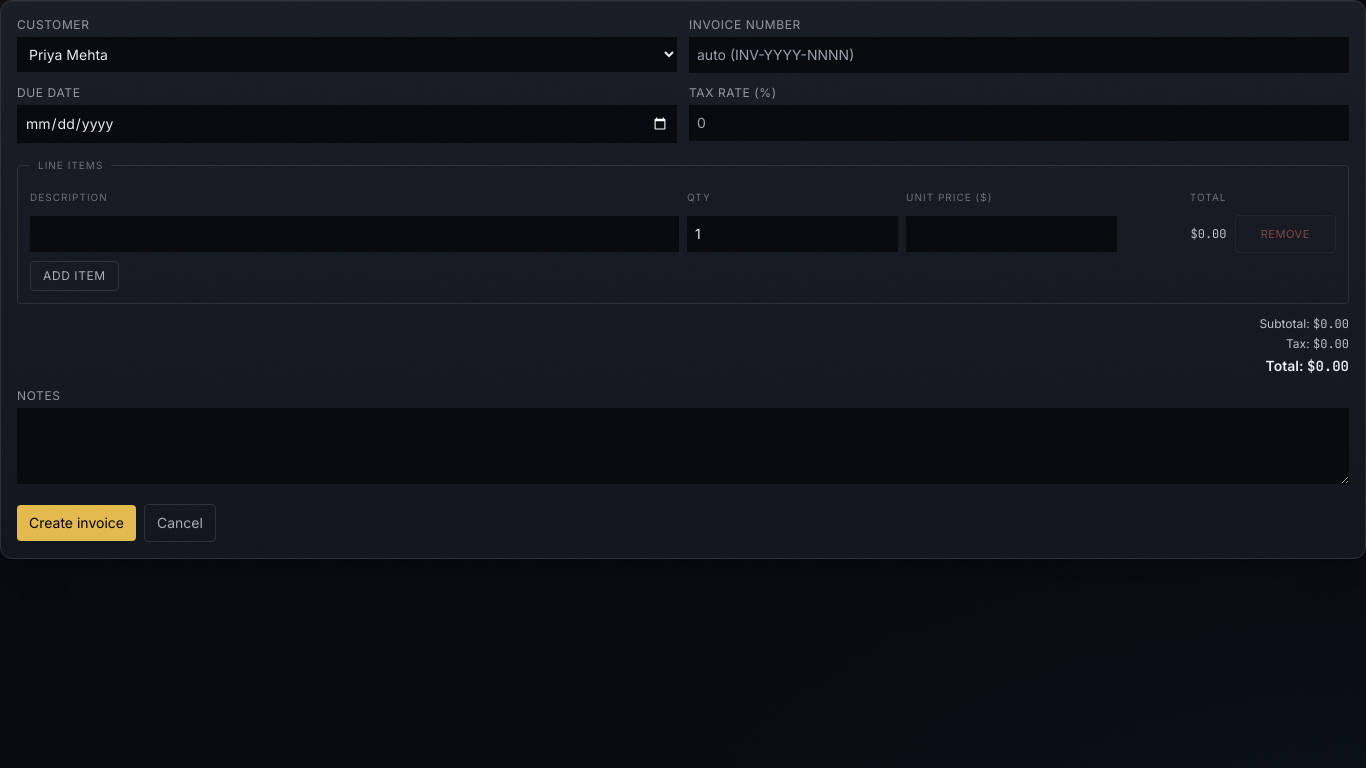
InvoiceForm — create mode › recomputes live totals when quantity/price change (2 x $10.00 + 0% -> $20.00)
Replace the text in the number field named "line 1 quantity" with "2" at {"x": 792, "y": 234}, box [687, 216, 898, 252]
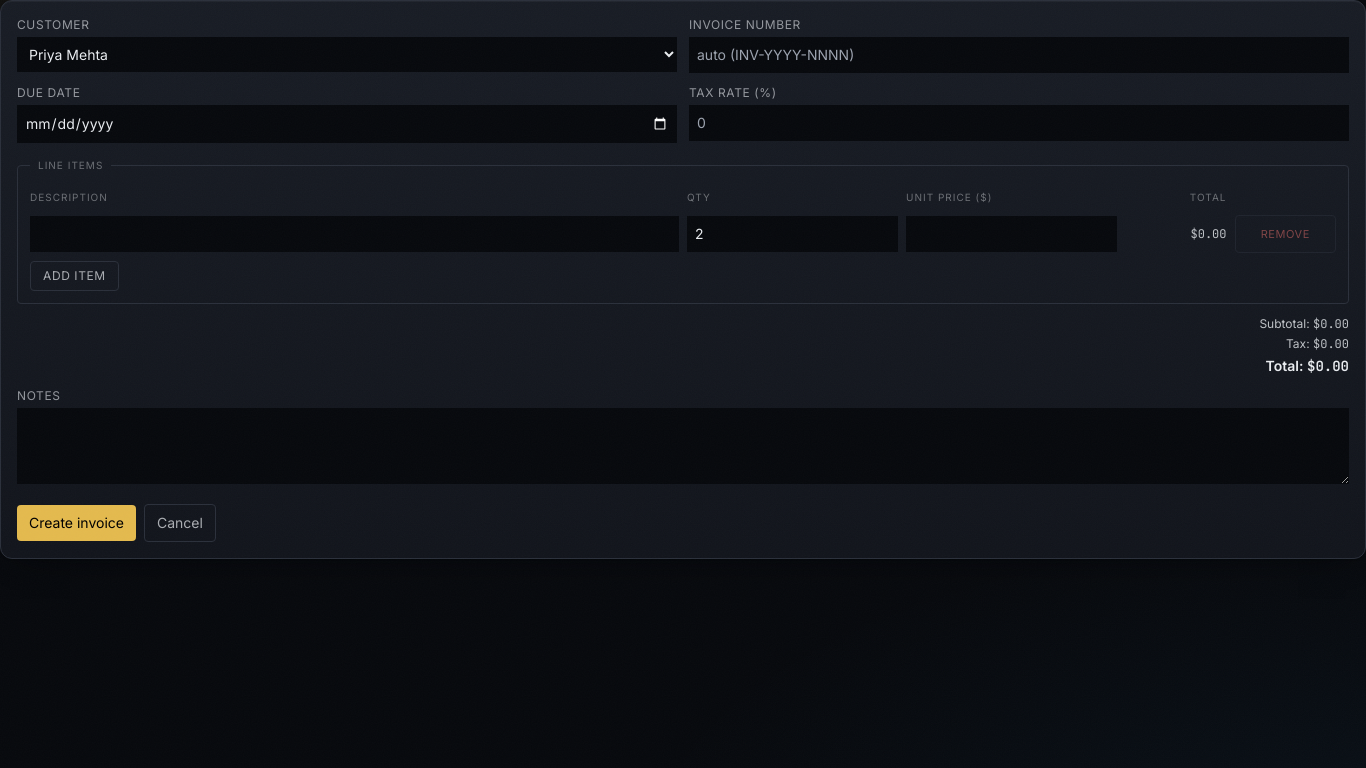
Type "10.00" into the number field named "line 1 unit price" at {"x": 1012, "y": 234}, box [906, 216, 1117, 252]
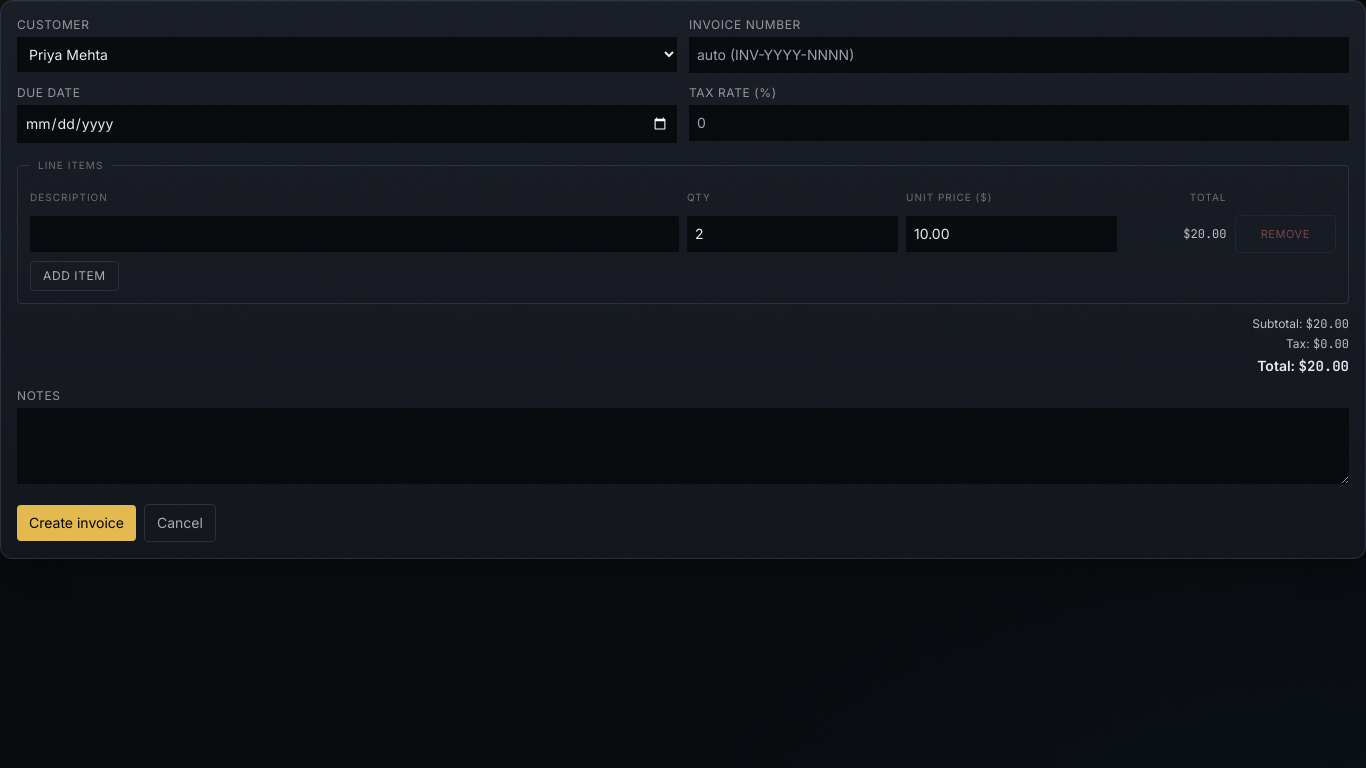
Result: the text with test id "line-total-0" reads "$20.00" at [1183, 226, 1226, 242]
Result: the text with test id "invoice-subtotal" reads "$20.00" at [1306, 316, 1349, 332]
Result: the text with test id "invoice-total" reads "$20.00" at [1299, 357, 1349, 375]
